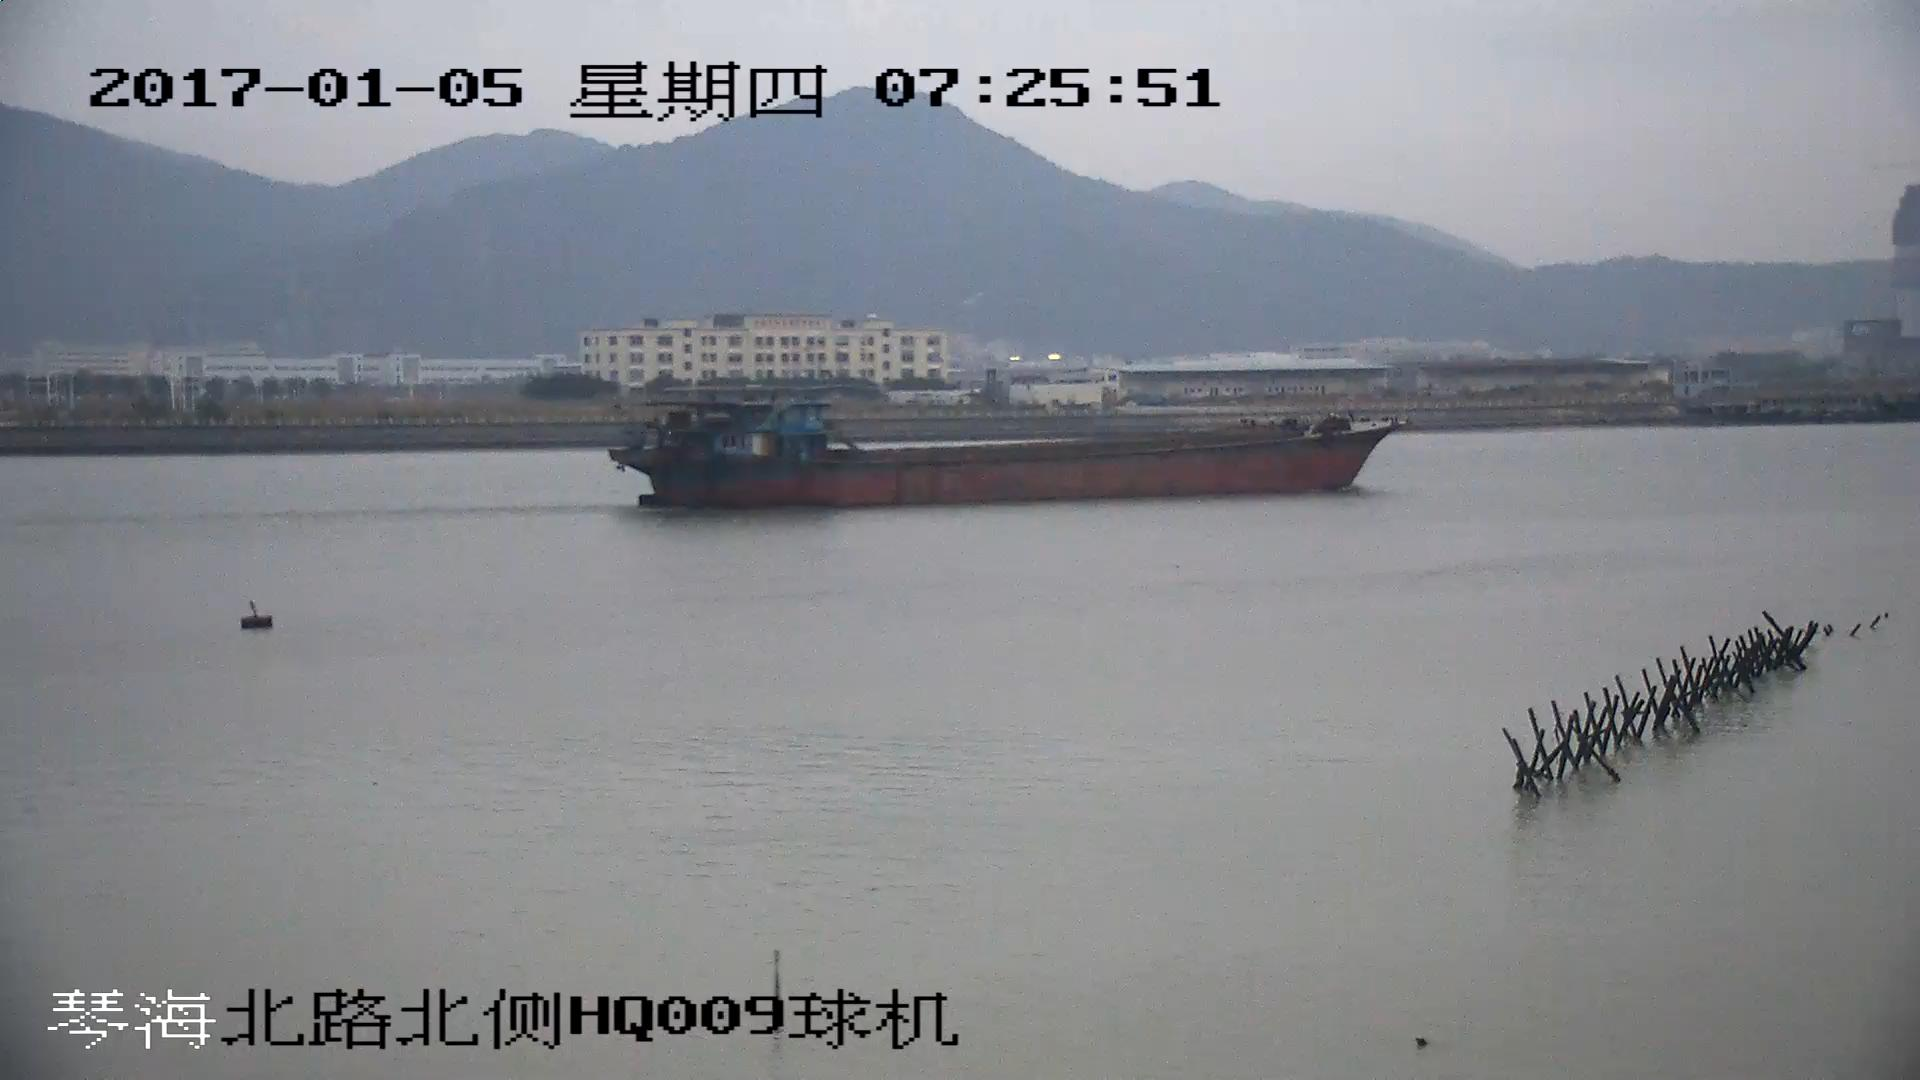bulk cargo carrier: (611, 407, 1411, 507)
